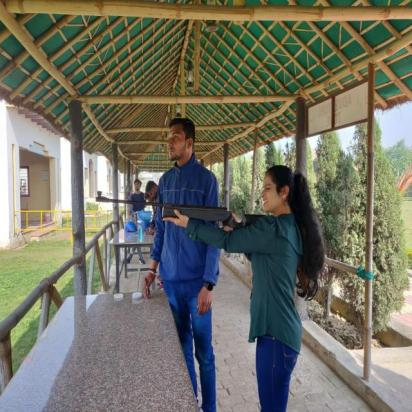Gun: (95, 190, 268, 232)
